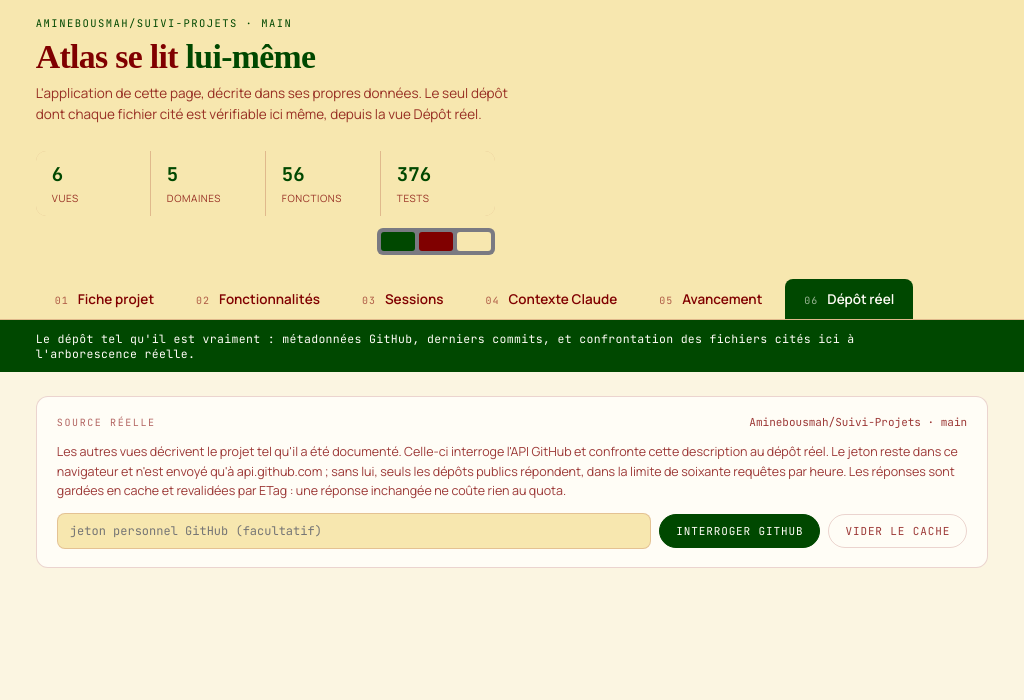
ce que le dépôt change dans les autres vues › fait basculer Avancement sur les phases de plan.md
The image size is (1024, 700).
Click the button "Interroger GitHub" at [740, 532], box 659,514 -> 820,548
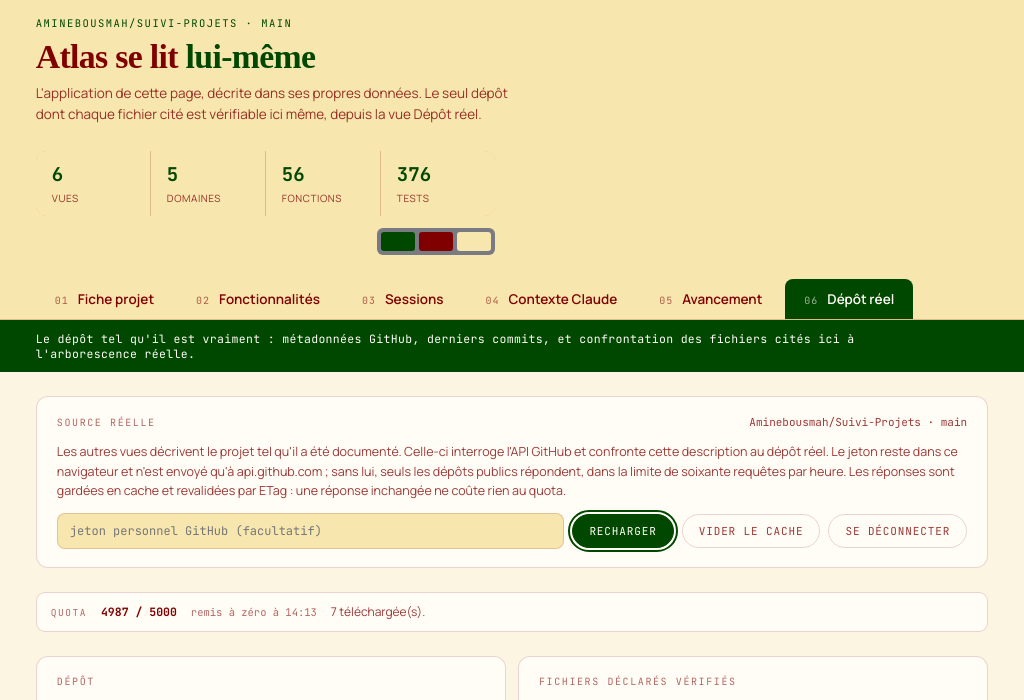
Click the button "05 Avancement" at [711, 299], box 640,279 -> 781,319
(page scrolled)
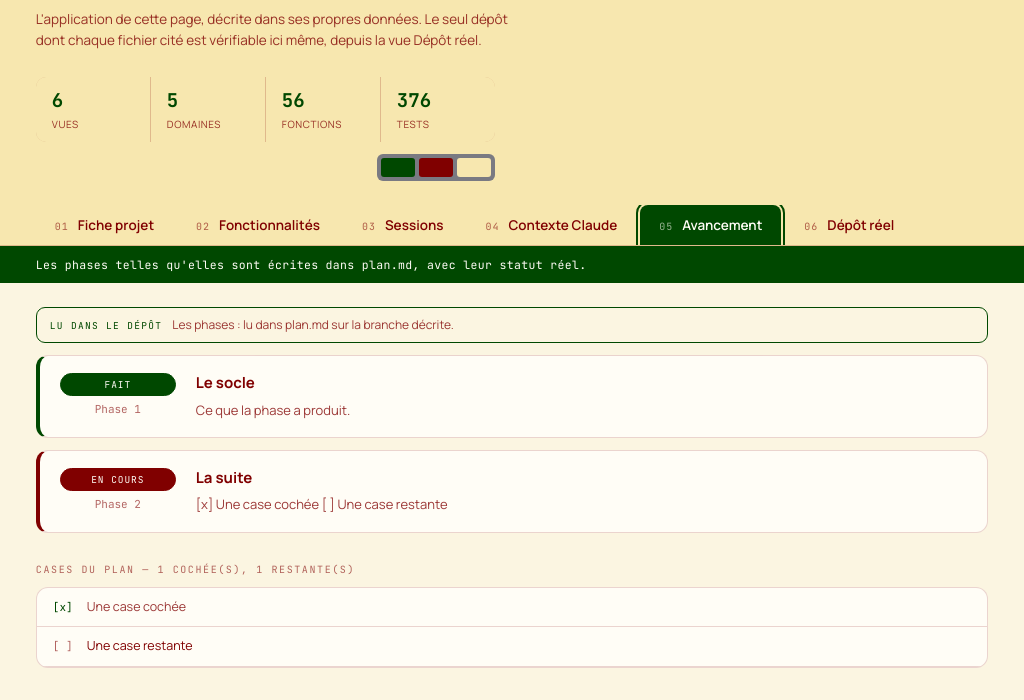
Expected: the text "Le socle" is shown, 196,372 -> 255,393
Expected: the text "Une case restante" is shown, 87,637 -> 193,654
